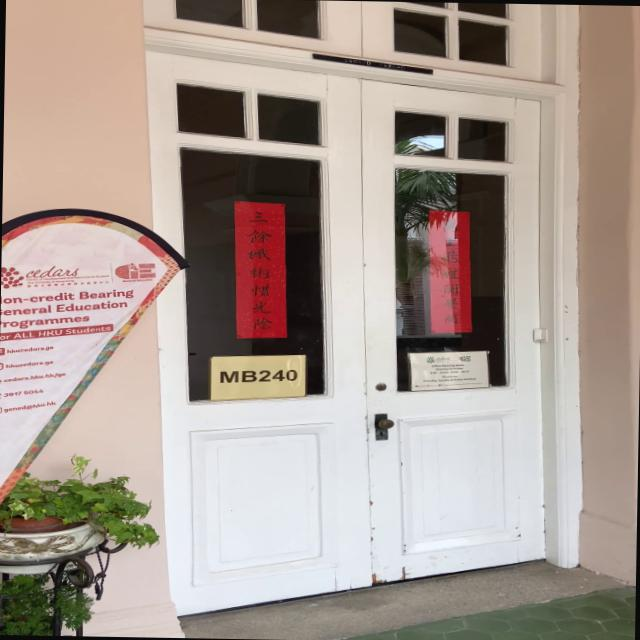room240: (212, 364, 302, 391)
